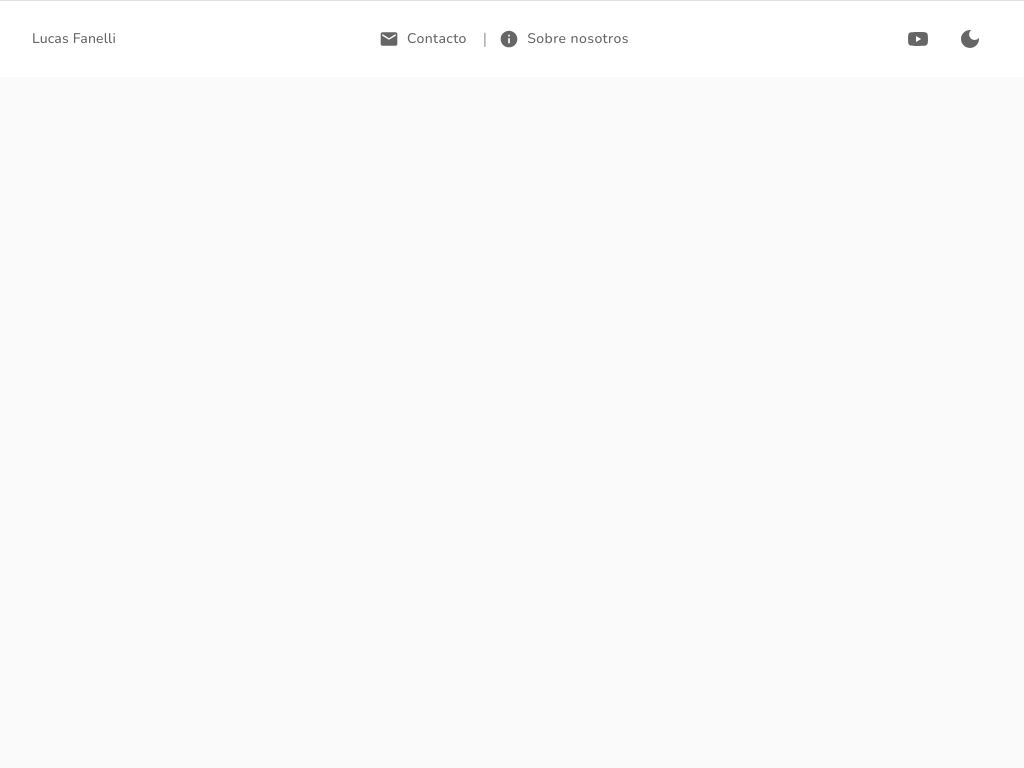
Test: Footer in Spanish › should render the contact dialog in Spanish
Click the button "Contacto" at {"x": 425, "y": 39}, box [375, 17, 475, 61]
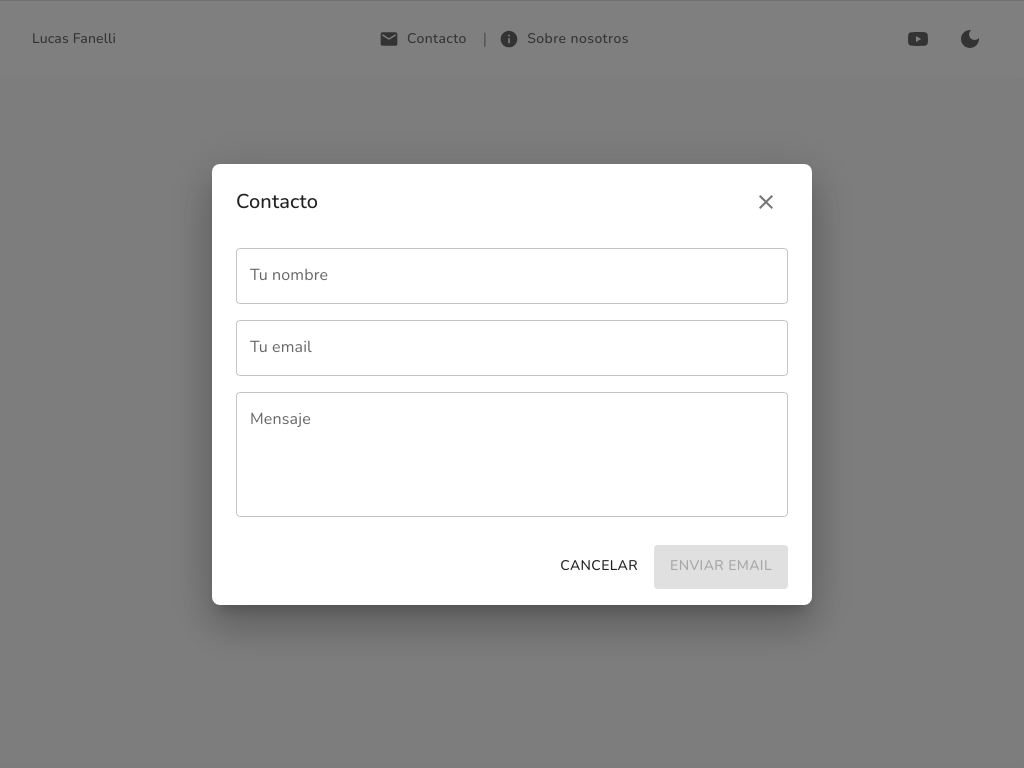
Check: the field labelled "Tu nombre" is shown, box [236, 248, 788, 304]
Check: the text box labelled "Mensaje" is shown, box [250, 408, 774, 500]
Check: the button "Enviar email" is shown, box [654, 544, 788, 588]
